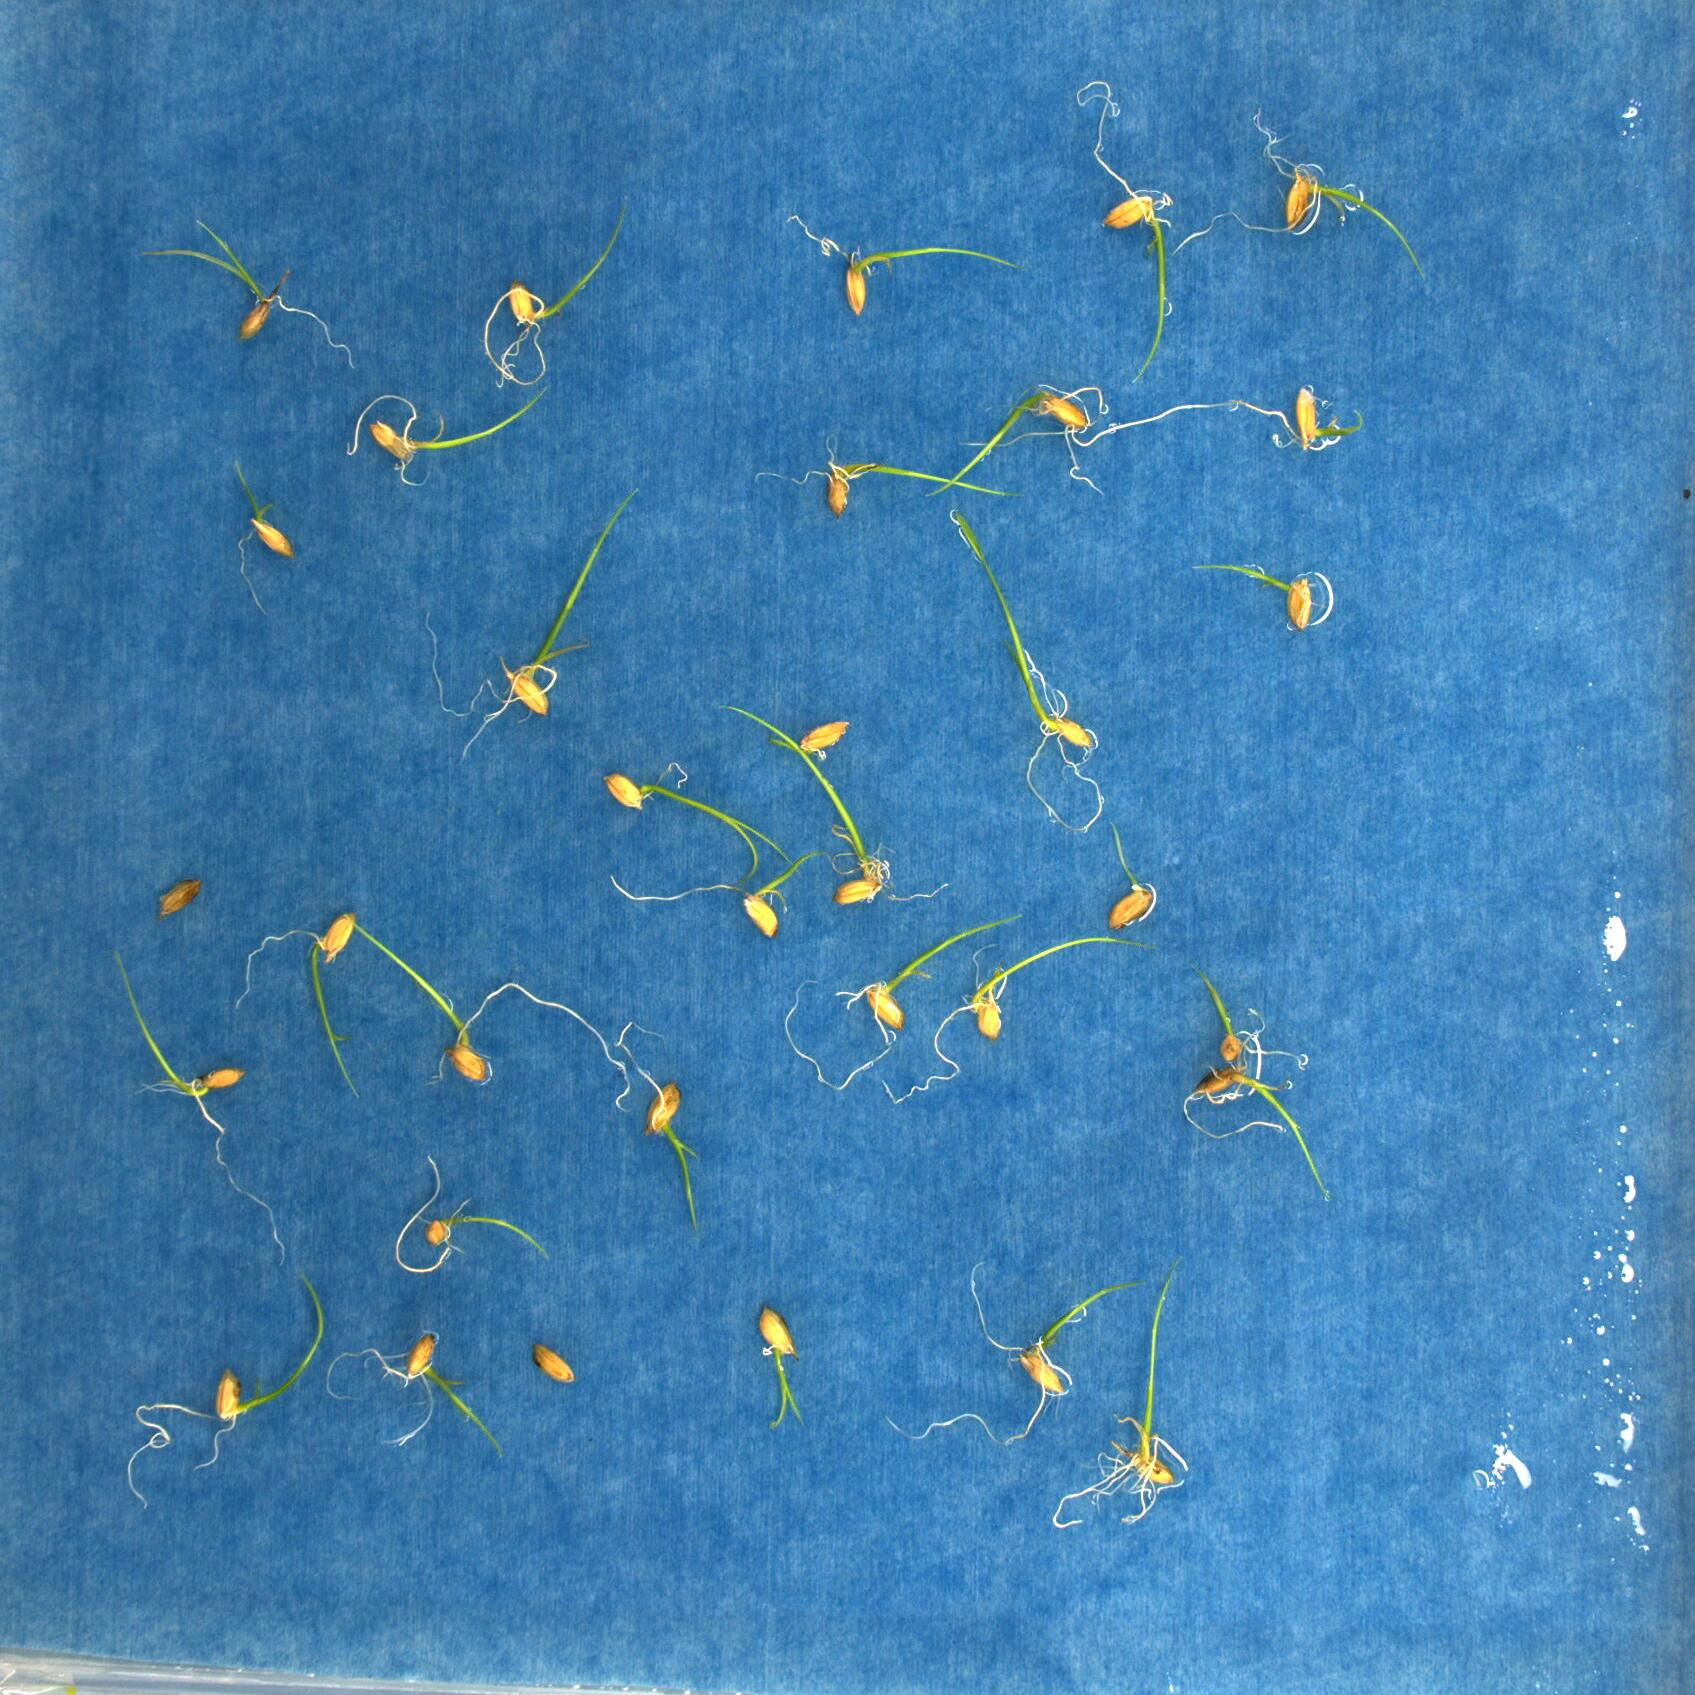not sprout: (155, 875, 203, 919), (531, 1341, 574, 1381)
sprout: (421, 490, 638, 759), (341, 914, 632, 1111), (112, 945, 286, 1267), (953, 511, 1102, 830), (877, 1262, 1135, 1447), (126, 1274, 323, 1510), (882, 934, 1156, 1102), (1175, 102, 1430, 276), (782, 913, 1021, 1090), (1049, 1254, 1184, 1527), (135, 216, 362, 373), (1063, 385, 1363, 497), (1073, 75, 1173, 390), (779, 206, 1031, 321), (484, 191, 629, 390), (1183, 1007, 1330, 1200), (785, 759, 950, 910), (605, 754, 796, 883), (237, 910, 360, 1097), (753, 433, 1009, 522), (328, 1330, 503, 1459), (343, 385, 548, 489), (927, 386, 1110, 497), (394, 1153, 553, 1271), (615, 1024, 698, 1232), (706, 694, 857, 765), (230, 458, 296, 618), (1194, 965, 1302, 1063), (1192, 563, 1312, 630), (733, 846, 816, 938), (757, 1302, 807, 1433), (1108, 821, 1166, 930)
